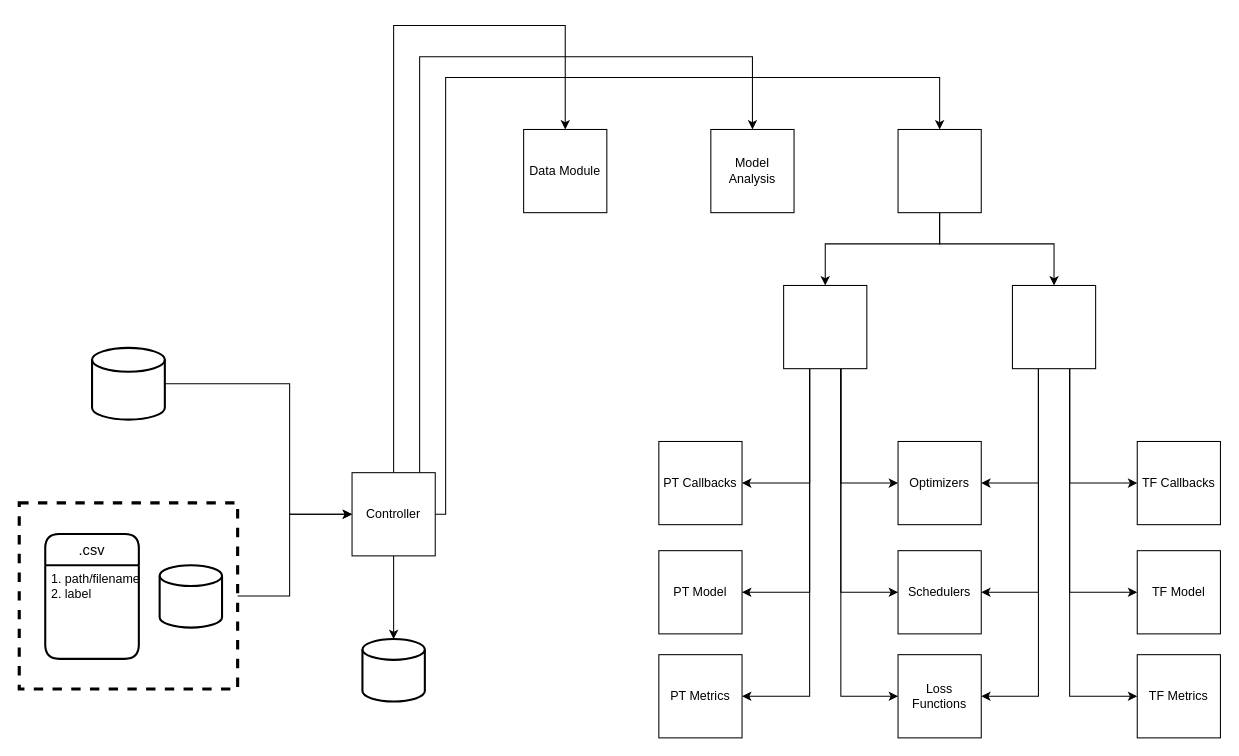
Some shapes in this 1239 by 756 pixel diagram are drawn without their labels. The shapes that lost their labels are listed below. From the top down, each one's centre as x and y in pixels, then its label:
the point at 939,170: Trainer
the point at 825,326: PyTorch Trainer
the point at 1053,326: TensorFlow Trainer
the point at 127,383: User Config
the point at 190,596: data
the point at 393,670: Config
